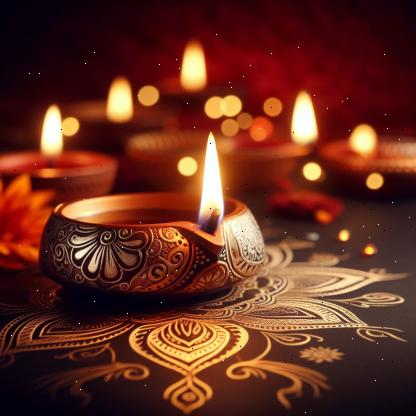fire: (195, 125, 225, 232), (29, 101, 66, 162), (170, 37, 206, 88), (292, 86, 320, 148), (102, 72, 139, 117)
